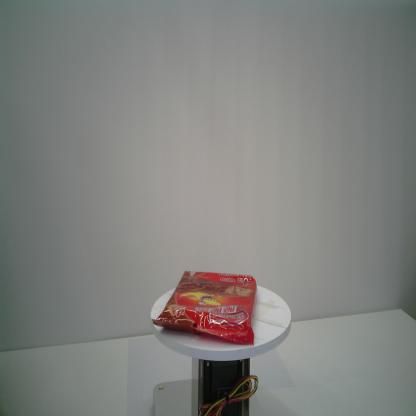Dessert: (151, 270, 257, 346)
